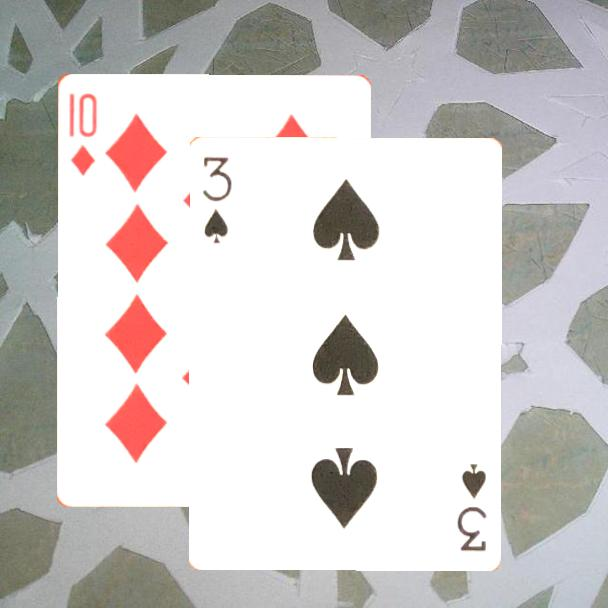d10: (66, 89, 99, 178)
s03: (199, 152, 234, 246), (454, 460, 489, 554)
